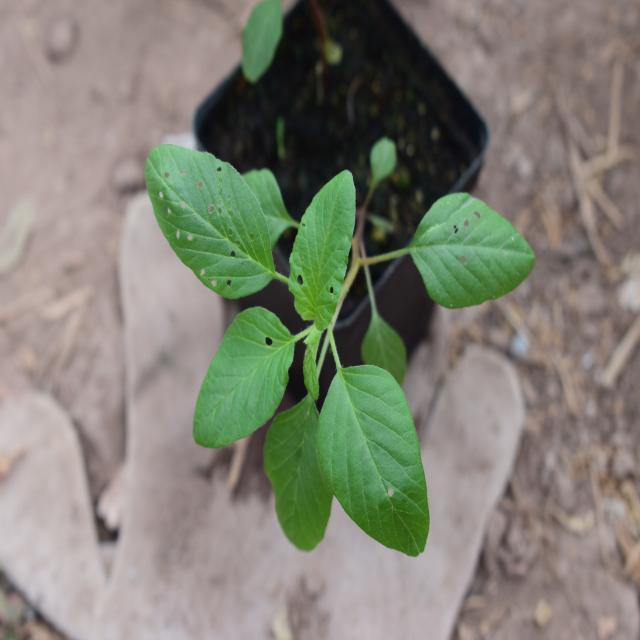pigweed: (148, 119, 469, 532)
